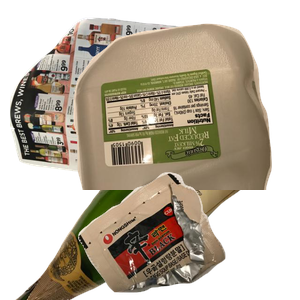glass: (13, 120, 253, 300)
paper: (10, 15, 196, 195)
plastic: (71, 21, 300, 201)
trash: (76, 170, 300, 300)
